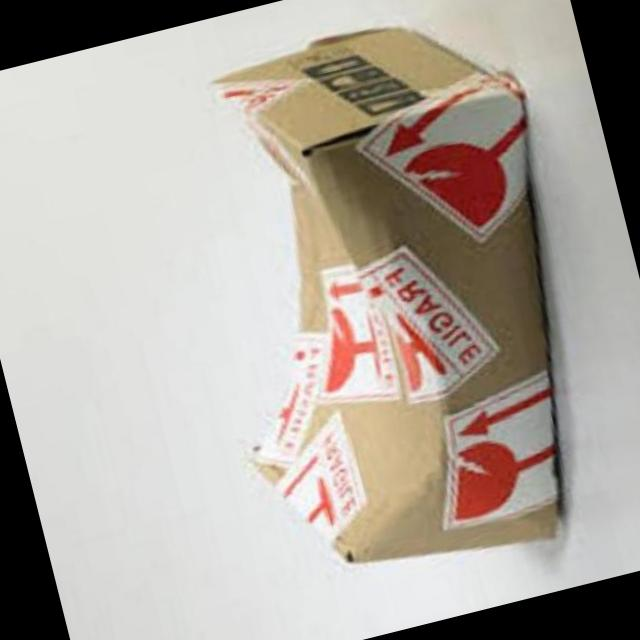box: (155, 0, 624, 607)
